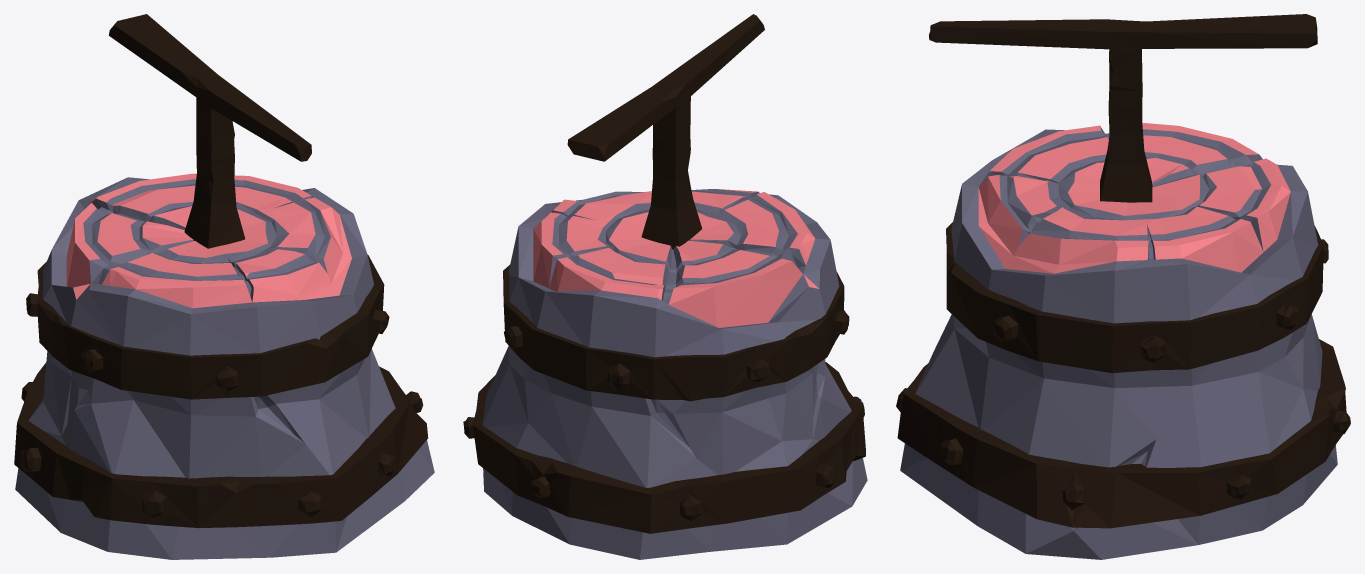
Rendered from SFFA_Log_004.fbx.
3 renders of one model, left to right at view 1: azimuth 30°, elevation 25°; view 2: azimuth 150°, elevation 25°; view 3: azimuth 270°, elevation 25°, orthographic. The views are drawn at different scales.
Visible parts, largest first — view 1: SFFA_Log_004; view 2: SFFA_Log_004; view 3: SFFA_Log_004.
Boxes of the visible parts, x1=… form: SFFA_Log_004: x1=14, y1=14, x2=434, y2=559; SFFA_Log_004: x1=463, y1=14, x2=867, y2=559; SFFA_Log_004: x1=896, y1=14, x2=1350, y2=559.
Size of the model in its own units: 96.38 by 101 by 94.53.
